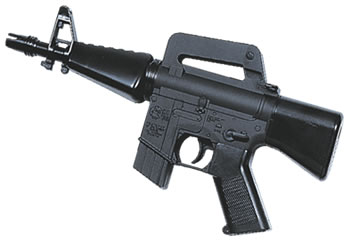rifle: (5, 14, 337, 229)
